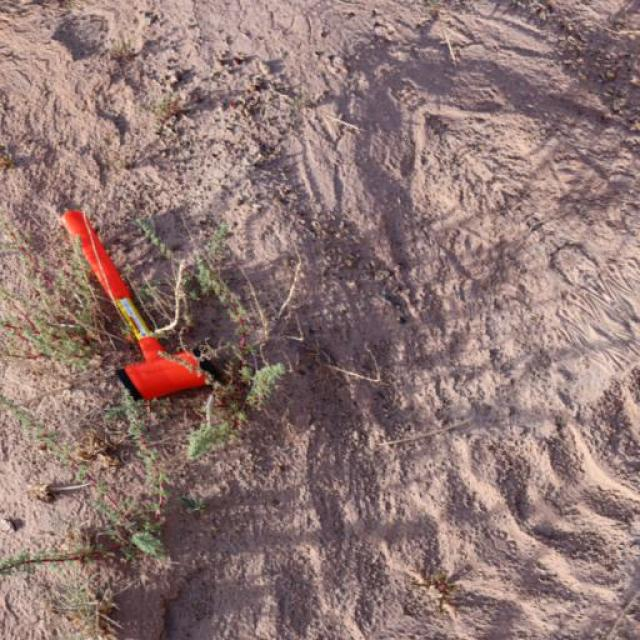mallet: (58, 205, 208, 401)
